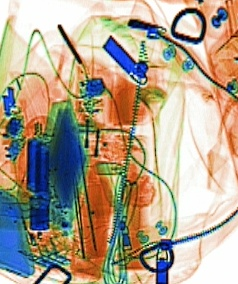powerbank: (22, 132, 56, 231)
